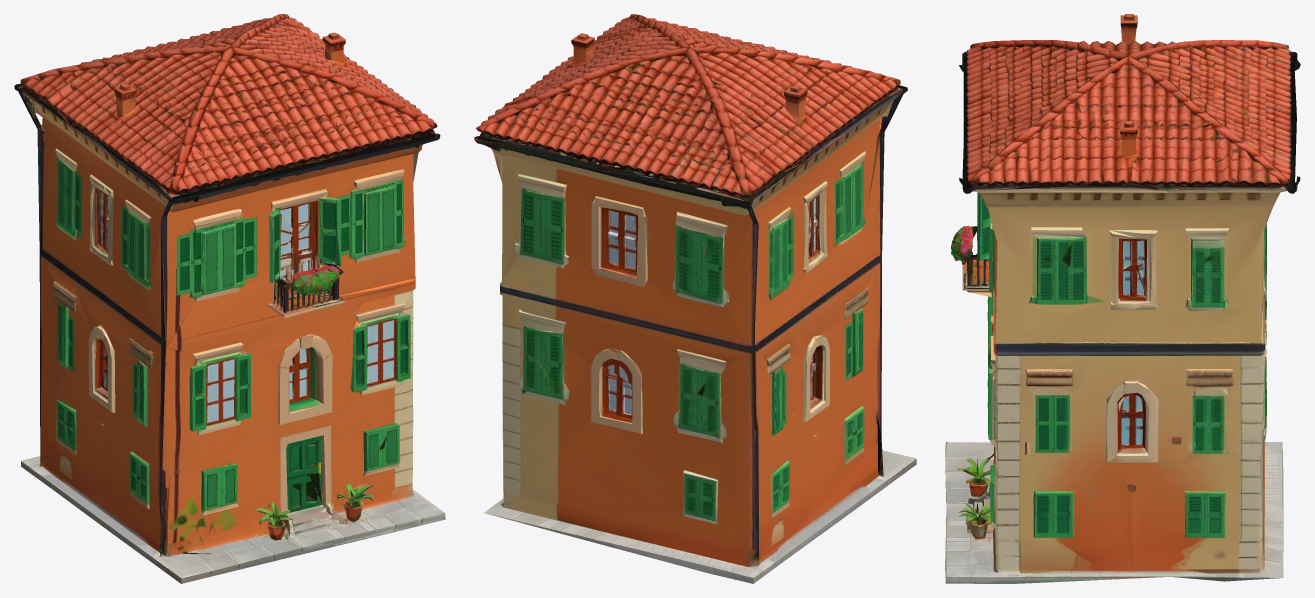
The model's file is bldg1.glb.
3 views of the same model, side by side, from view 1: azimuth 30°, elevation 25°; view 2: azimuth 150°, elevation 25°; view 3: azimuth 270°, elevation 25° (orthographic). The views are drawn at different scales.
Size of the model in its own units: 1.23 by 1.9 by 1.32.
1 material, 1 textured.
